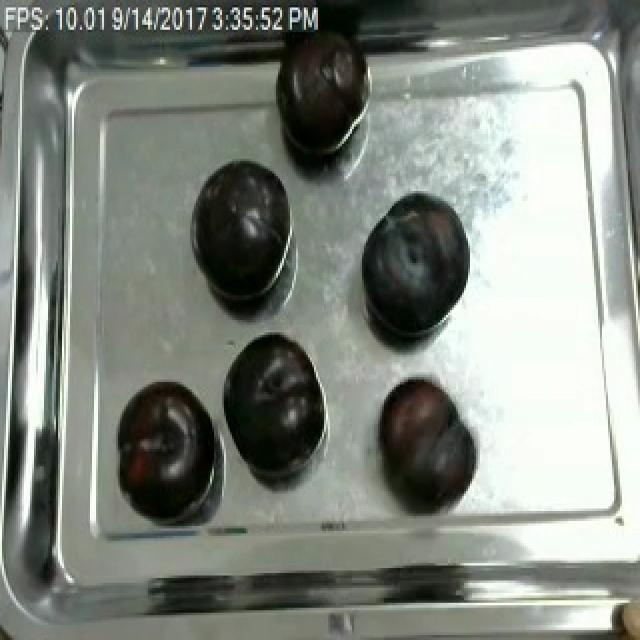Fruit: (356, 191, 472, 347), (188, 154, 294, 310), (220, 327, 326, 479), (114, 377, 220, 526), (268, 25, 372, 166), (372, 375, 466, 506)
